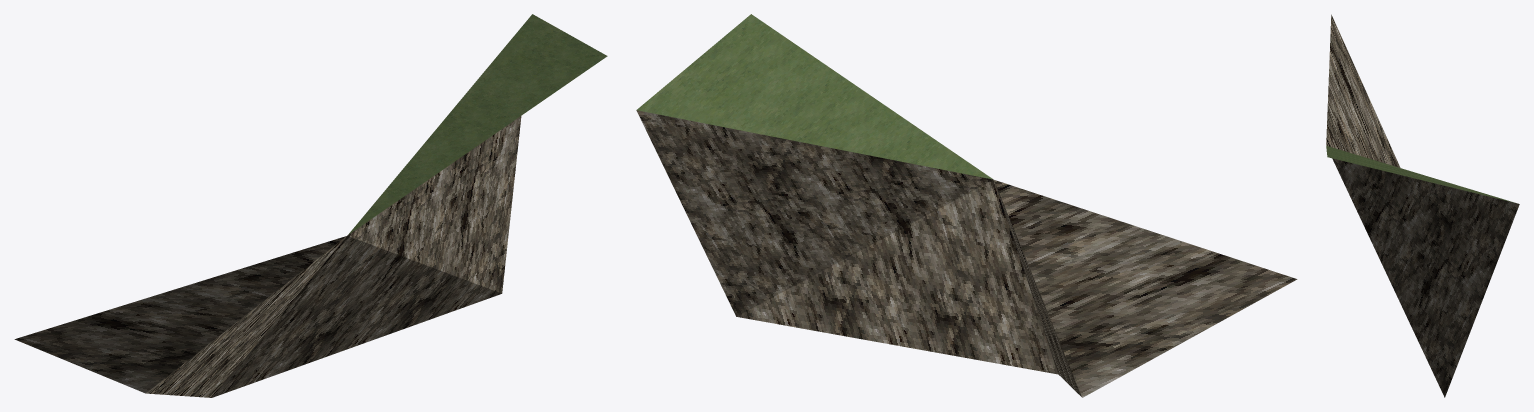
File: LODa_carisle_mid_landmass_02_04.fbx
3 renders of one model, left to right at view 1: azimuth 30°, elevation 25°; view 2: azimuth 150°, elevation 25°; view 3: azimuth 270°, elevation 25°, orthographic. The views are drawn at different scales.
Visible parts, largest first — view 1: LODa_carisle_mid_landmass_02_04; view 2: LODa_carisle_mid_landmass_02_04; view 3: LODa_carisle_mid_landmass_02_04.
Boxes of the visible parts, x1,y1,x2,y2 form: LODa_carisle_mid_landmass_02_04: [14, 14, 607, 397]; LODa_carisle_mid_landmass_02_04: [636, 14, 1297, 397]; LODa_carisle_mid_landmass_02_04: [1326, 14, 1519, 397].
Size of the model in its own units: 27.52 by 7.76 by 11.81.
